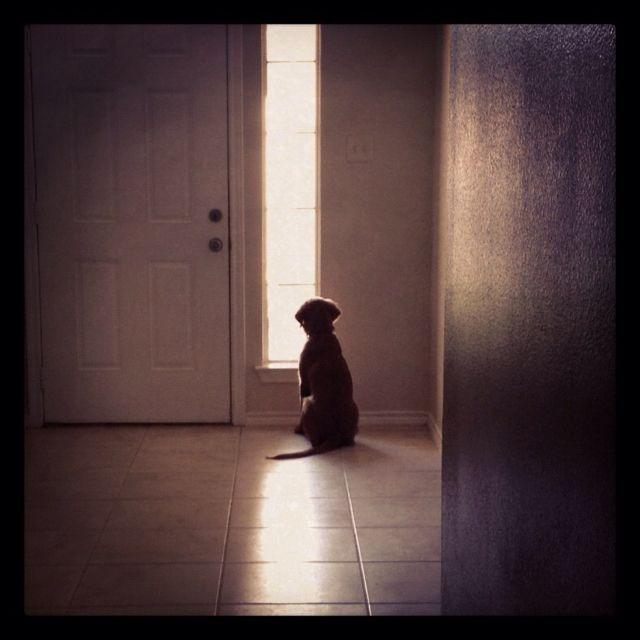adult_dog: (264, 298, 359, 460)
